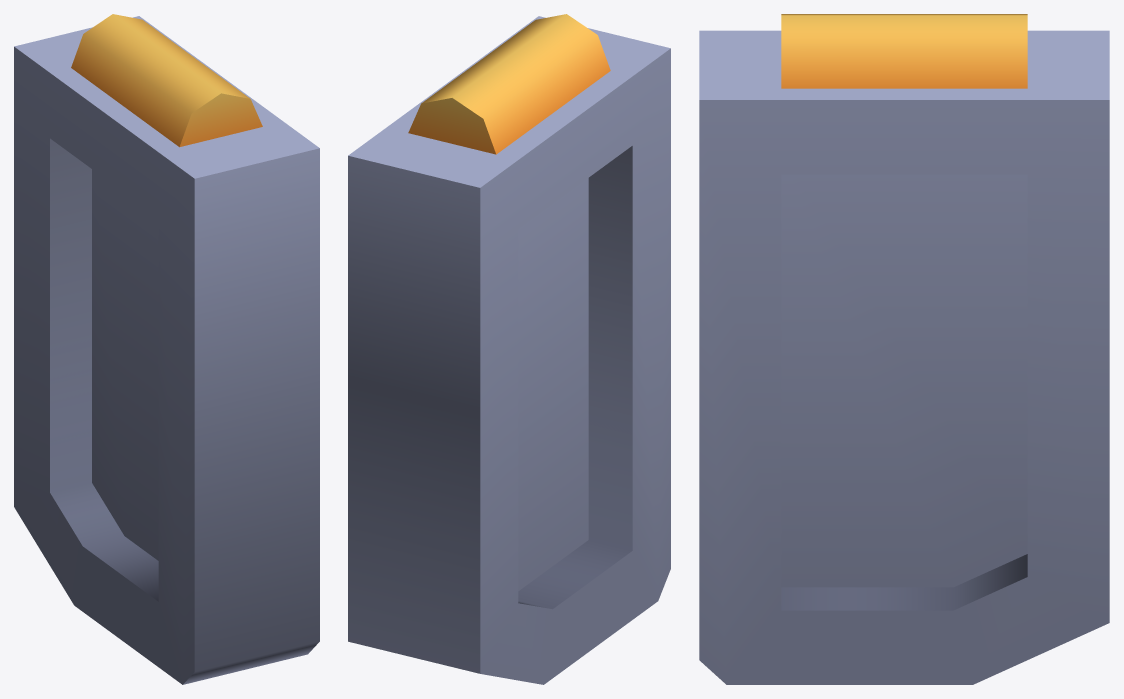
File: clip-large.glb
3 renders of one model, left to right at view 1: azimuth 30°, elevation 25°; view 2: azimuth 150°, elevation 25°; view 3: azimuth 270°, elevation 25°, orthographic. The views are drawn at different scales.
Visible parts, largest first — view 1: clip-large; view 2: clip-large; view 3: clip-large.
Part boxes in pixels (<box>): clip-large: <box>14,14,319,684</box>; clip-large: <box>348,14,670,684</box>; clip-large: <box>699,14,1109,684</box>.
Size of the model in its own units: 0.06 by 0.2558 by 0.15.
1 material, 1 textured.
